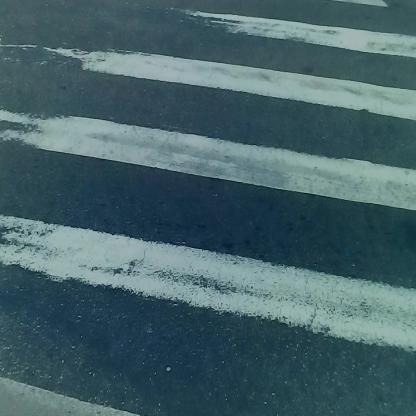crosswalk: (1, 27, 412, 416)
